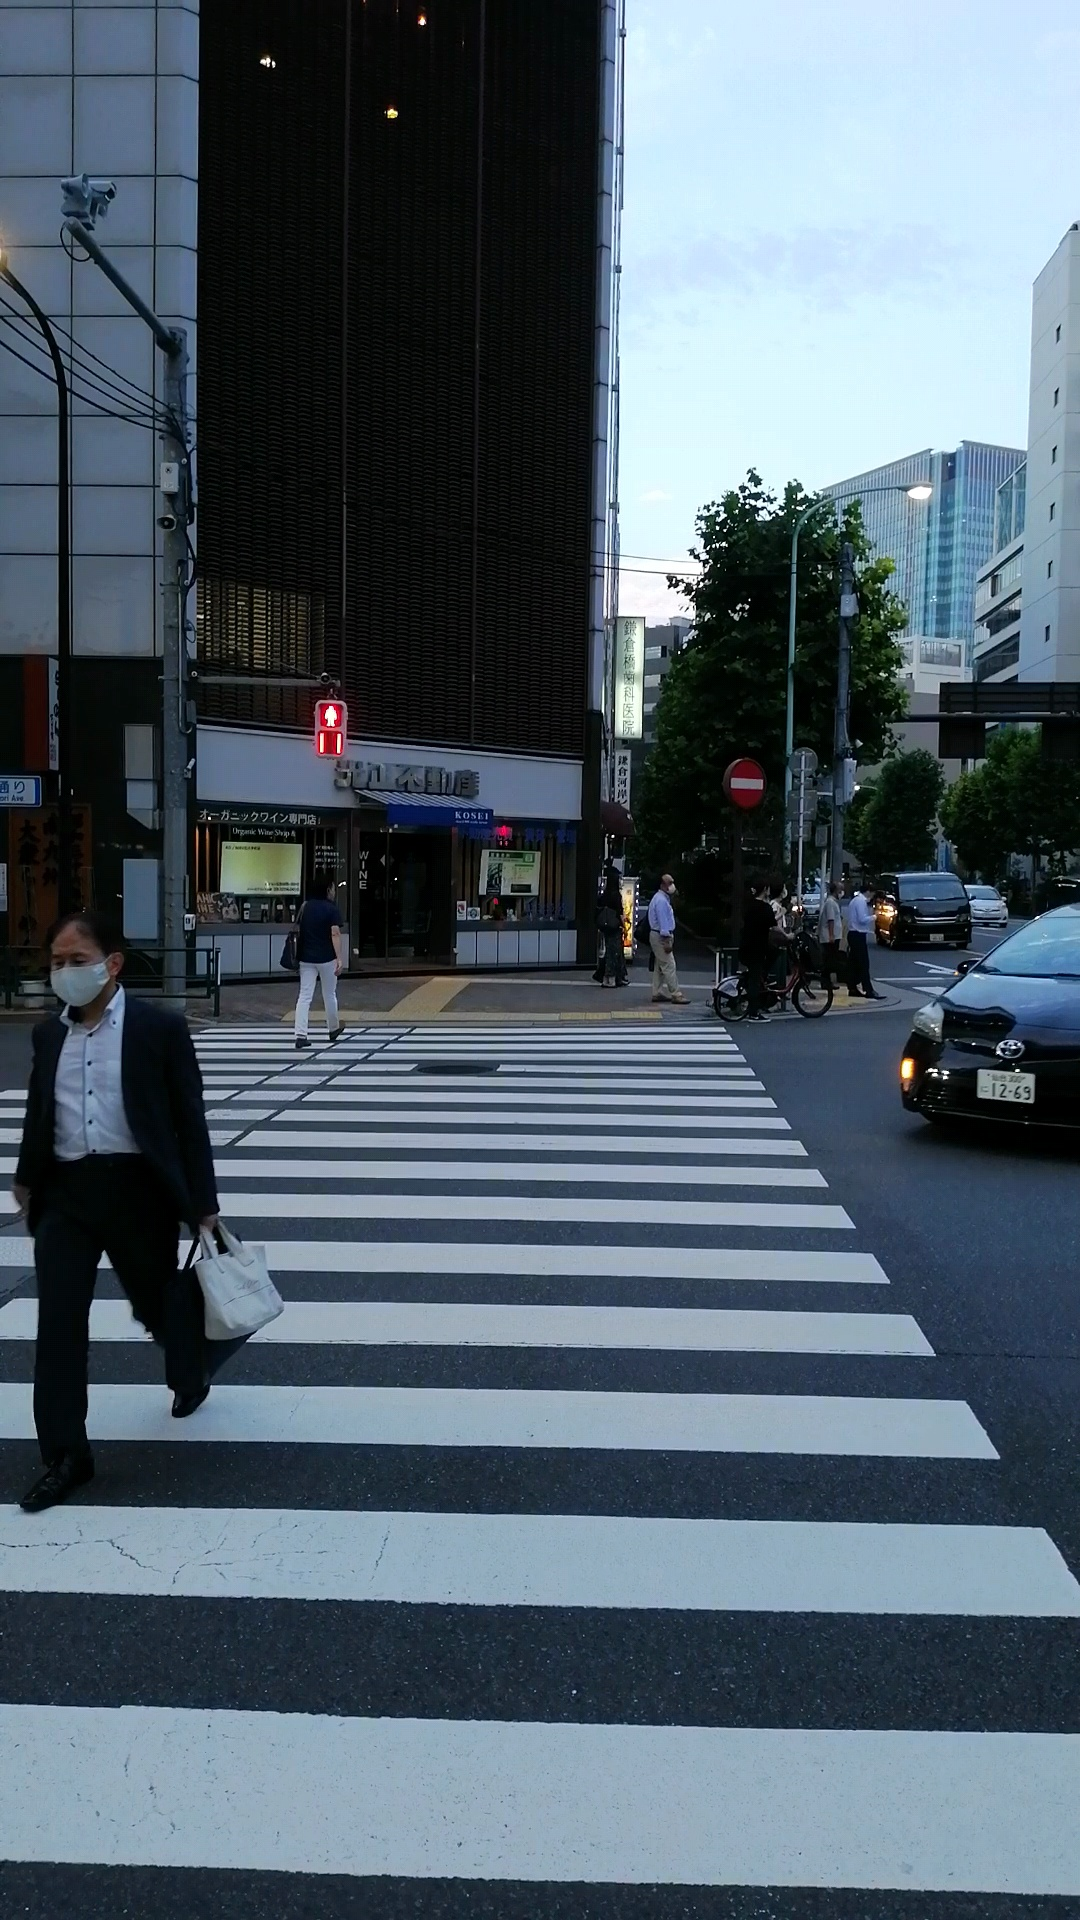red: (313, 698, 348, 761)
